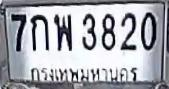0: (140, 11, 156, 51)
2: (120, 12, 136, 50)
3: (81, 12, 96, 50)
7: (10, 14, 26, 52)
8: (101, 13, 115, 50)
A01: (30, 13, 49, 50)
A30: (53, 14, 72, 51)
BKK: (26, 63, 142, 85)
